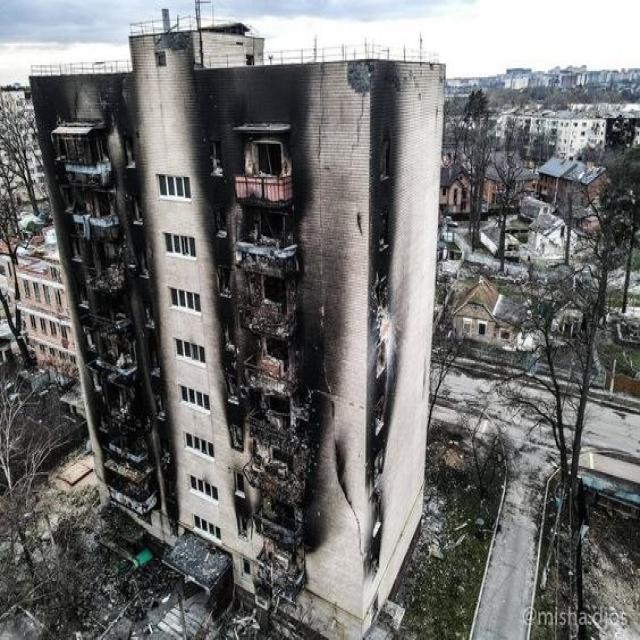building: (26, 7, 447, 638)
